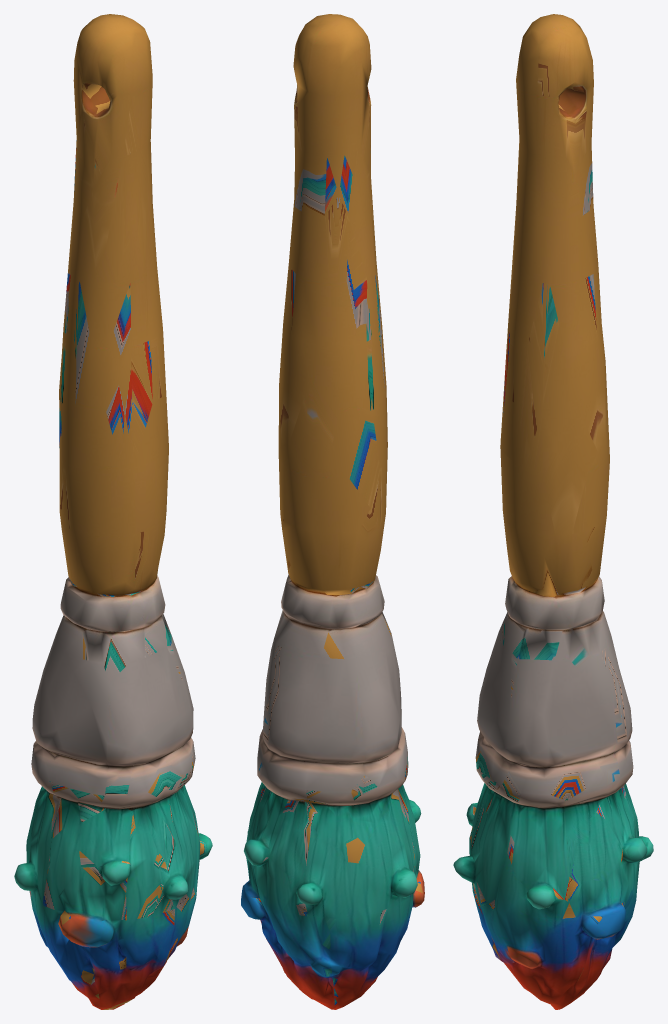
The model's file is painter-brush-01-web.glb.
The picture shows the model from 3 angles, left to right: view 1: azimuth 30°, elevation 25°; view 2: azimuth 150°, elevation 25°; view 3: azimuth 270°, elevation 25°; orthographic projection.
Visible parts, largest first — view 1: part-0; view 2: part-0; view 3: part-0.
Boxes of the visible parts, x1,y1,x2,y2 form: part-0: (14, 14, 212, 1009); part-0: (241, 14, 424, 1009); part-0: (453, 14, 653, 1009).
Size of the model in its own units: 0.1906 by 0.9995 by 0.1836.
1 material, 1 textured.
